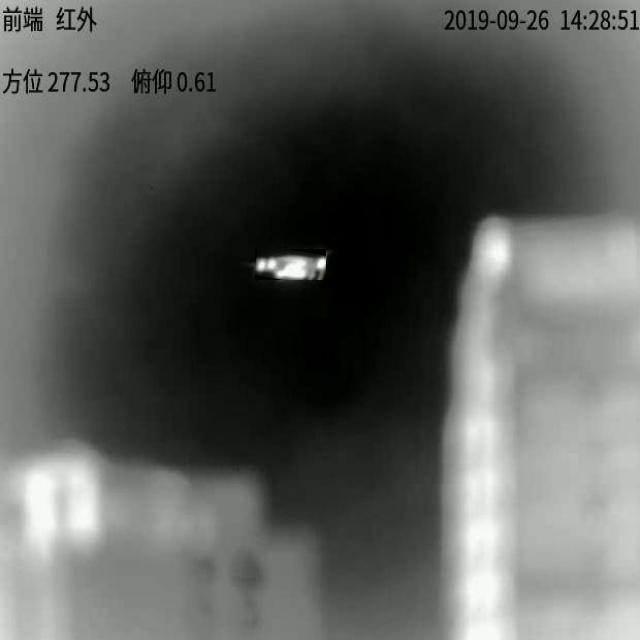drone: (255, 255, 326, 280)
